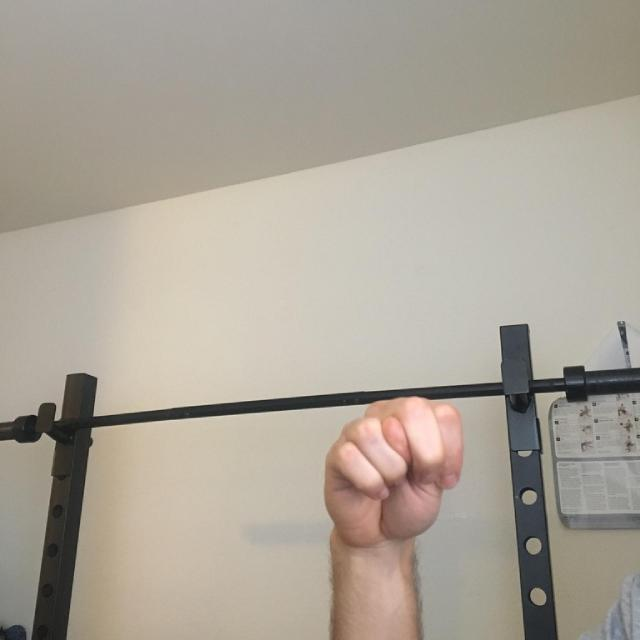N: (284, 367, 518, 598)
